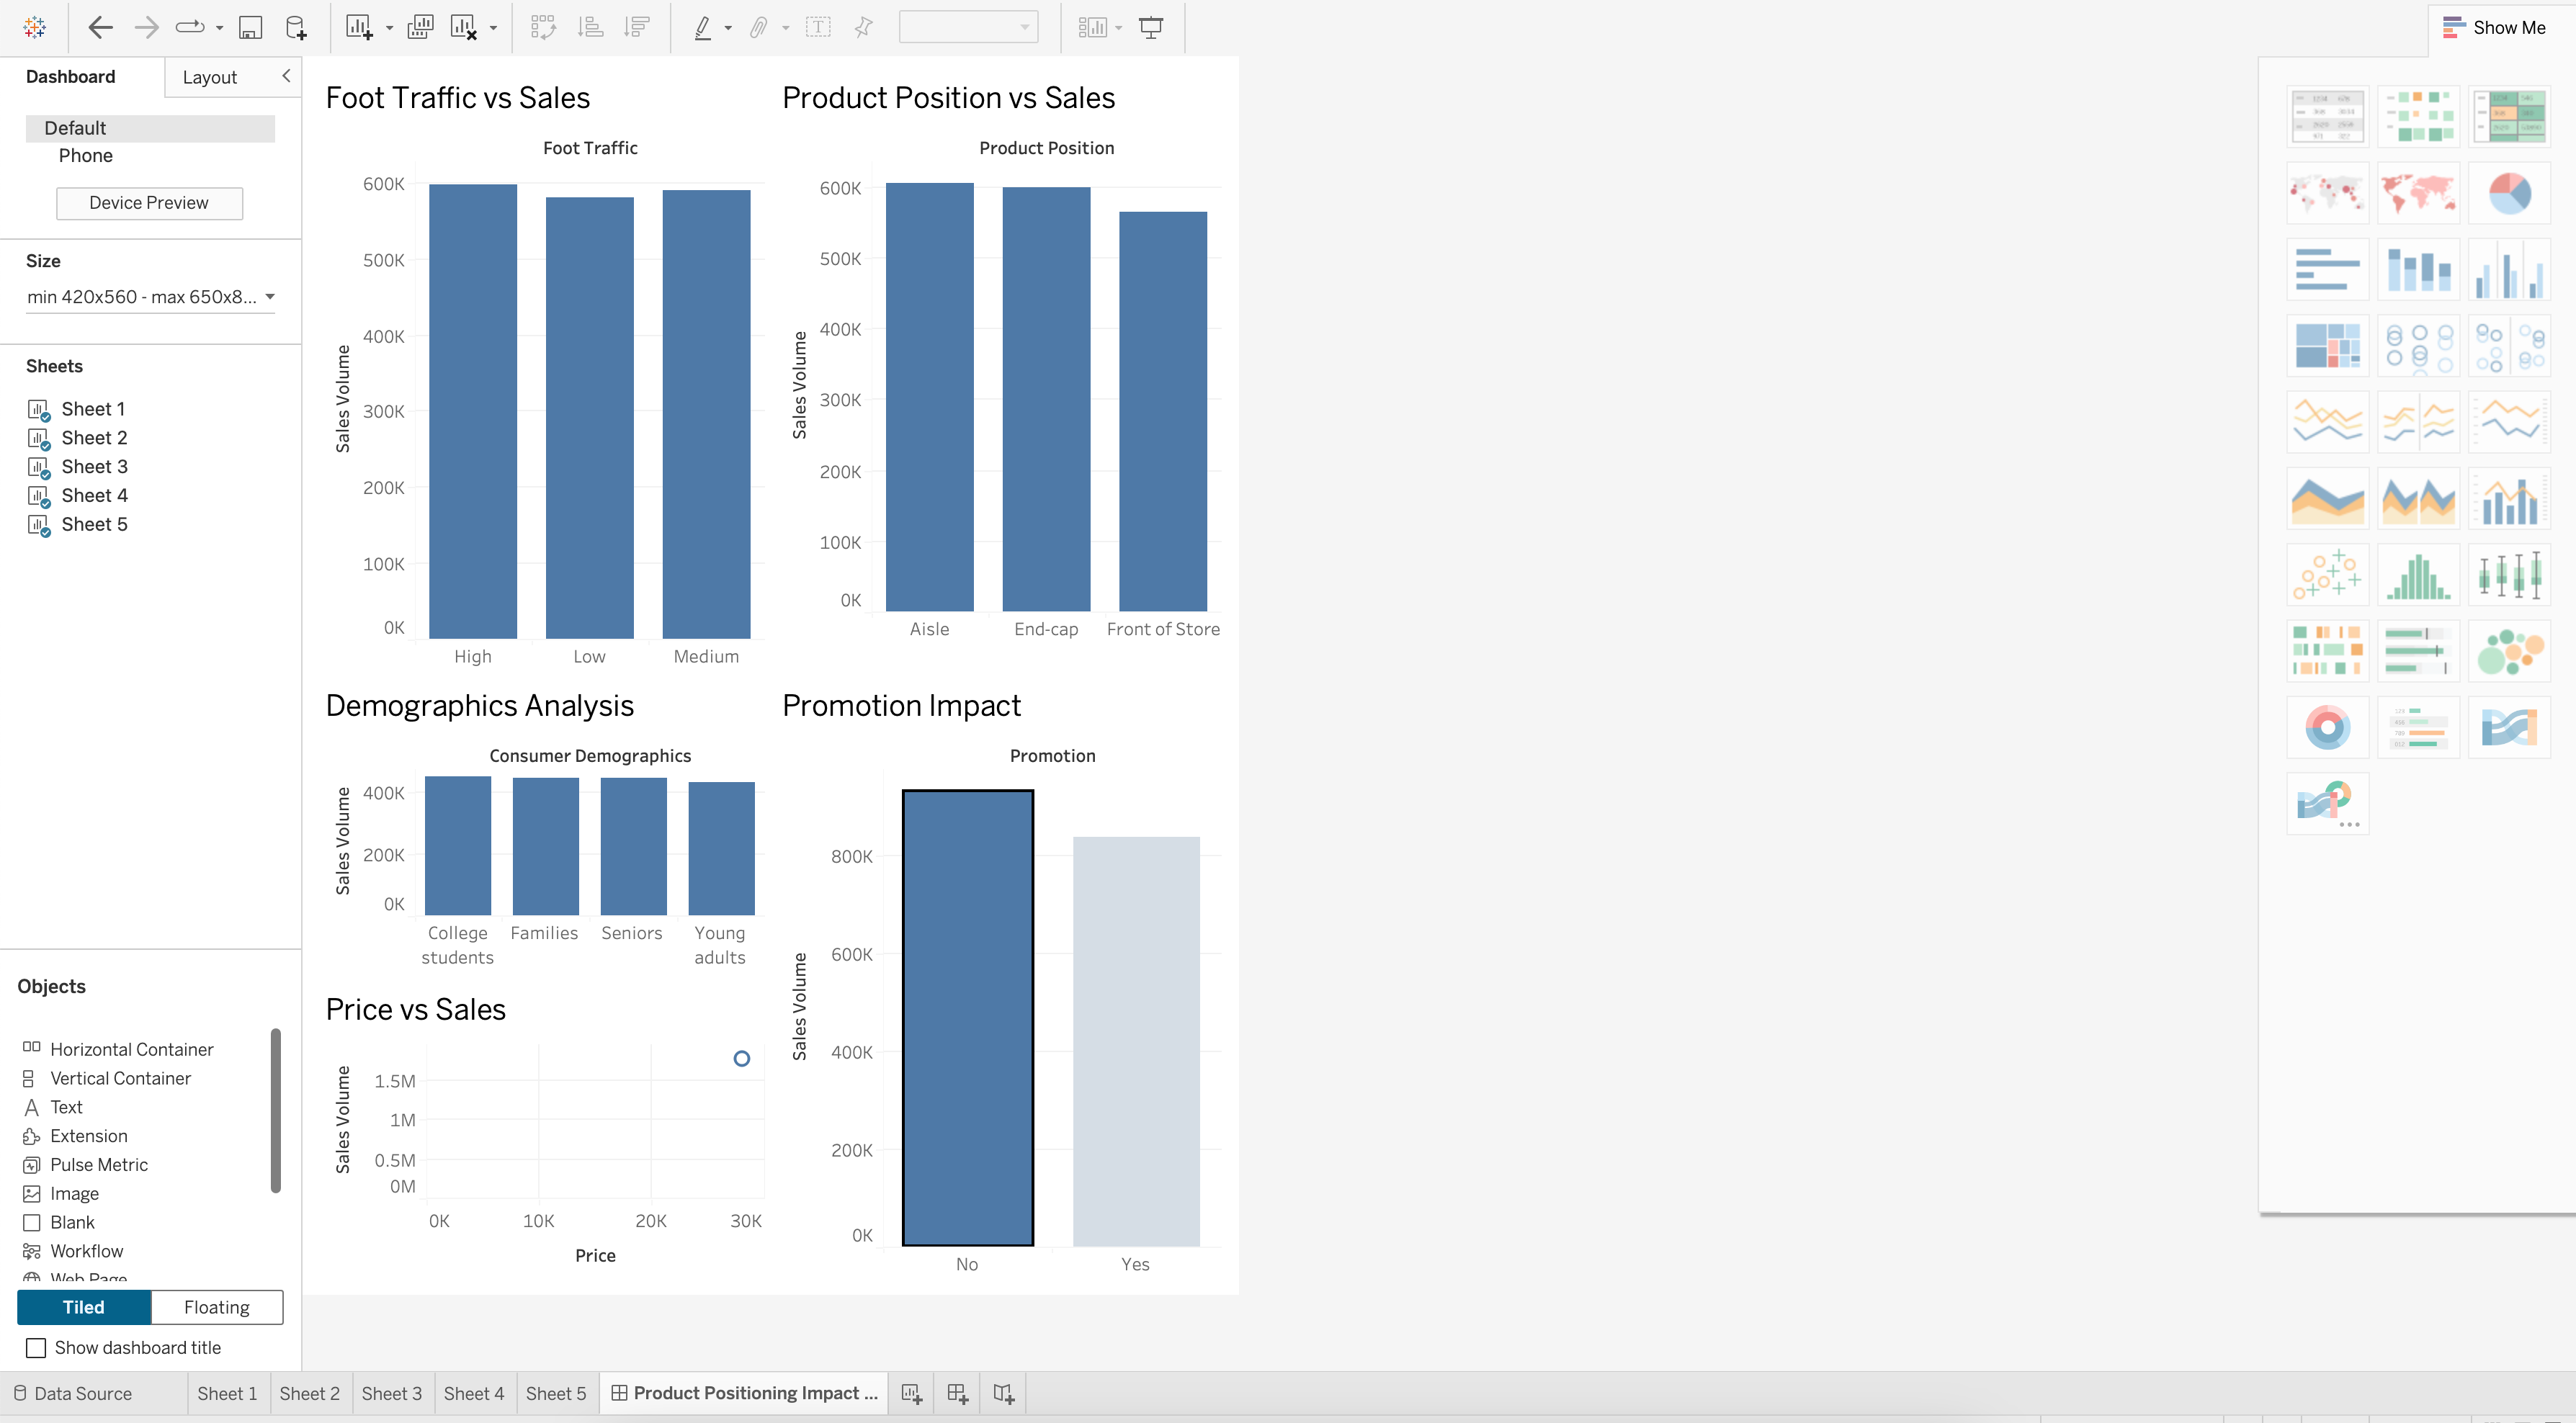

This screenshot's page, from the dashboard's own definition file:
{"tool":"tableau","page":{"name":"Product Positioning Impact Analysis","canvas":[650,860],"ordinal":3},"visuals":[{"type":"worksheet","title":"Sheet 2","mark":"Automatic","rows":["Sales Volume"],"cols":["Foot Traffic"],"box":[8,8,317,422]},{"type":"worksheet","title":"Sheet 1","mark":"Automatic","rows":["Sales Volume"],"cols":["Product Position"],"box":[325,8,317,422]},{"type":"worksheet","title":"Sheet 4","mark":"Automatic","rows":["Sales Volume"],"cols":["Consumer Demographics"],"box":[8,430,317,211]},{"type":"worksheet","title":"Sheet 3","mark":"Automatic","rows":["Sales Volume"],"cols":["Promotion"],"box":[325,430,317,422]},{"type":"worksheet","title":"Sheet 5","mark":"Automatic","rows":["Sales Volume"],"cols":["Price"],"box":[8,641,317,211]}]}

Visuals, with their boxes on the page's 650x860 design canvas (x1, y1, x2, y2). These are canvas units, not pixel positions in the 2576x1423 screenshot, which may show the page scaled, cropped or inside an application window:
"Sheet 2" worksheet: [8, 8, 325, 430]
"Sheet 1" worksheet: [325, 8, 642, 430]
"Sheet 4" worksheet: [8, 430, 325, 641]
"Sheet 3" worksheet: [325, 430, 642, 852]
"Sheet 5" worksheet: [8, 641, 325, 852]
